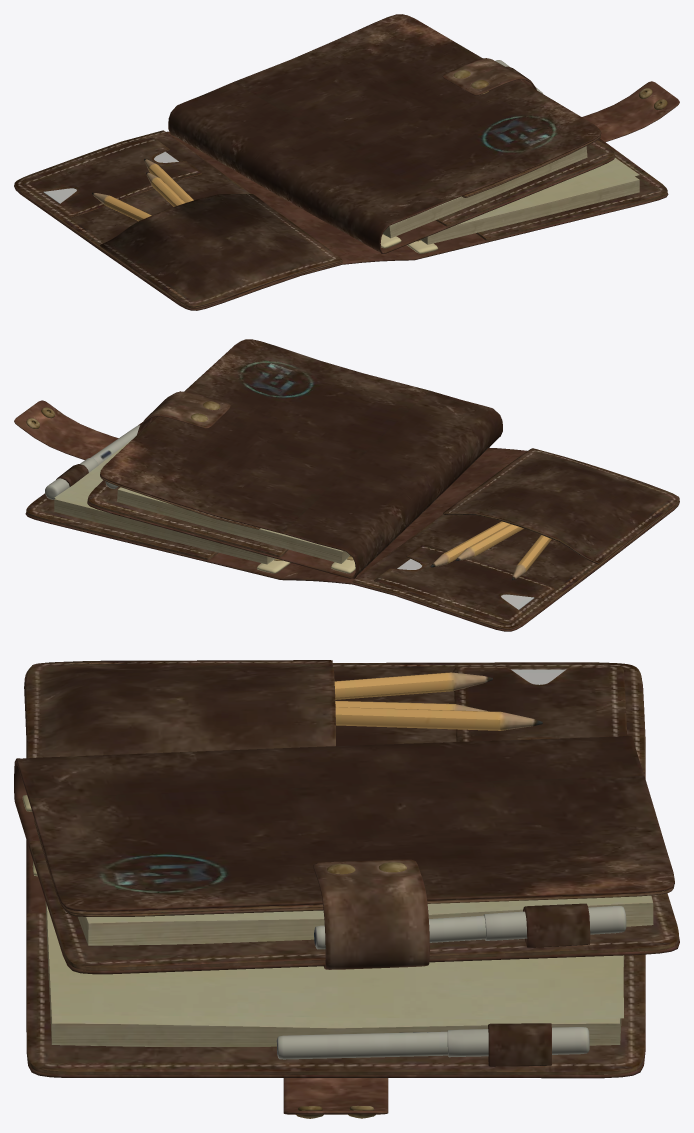
Rendered from optimized_binder.glb.
3 renders of one model, top to bottom at view 1: azimuth 30°, elevation 25°; view 2: azimuth 150°, elevation 25°; view 3: azimuth 270°, elevation 25°, orthographic. The views are drawn at different scales.
Parts seen in each view (by area): view 1: closed_binder_notebook_0; view 2: closed_binder_notebook_0; view 3: closed_binder_notebook_0.
Part boxes in pixels (bbox=[...]): closed_binder_notebook_0: bbox=[14, 14, 679, 310]; closed_binder_notebook_0: bbox=[14, 339, 679, 631]; closed_binder_notebook_0: bbox=[14, 660, 679, 1118].
Bounding box in the file's own units: 0.3652 × 0.0464 × 0.2142.
Materials: 1 (1 with a texture image).
